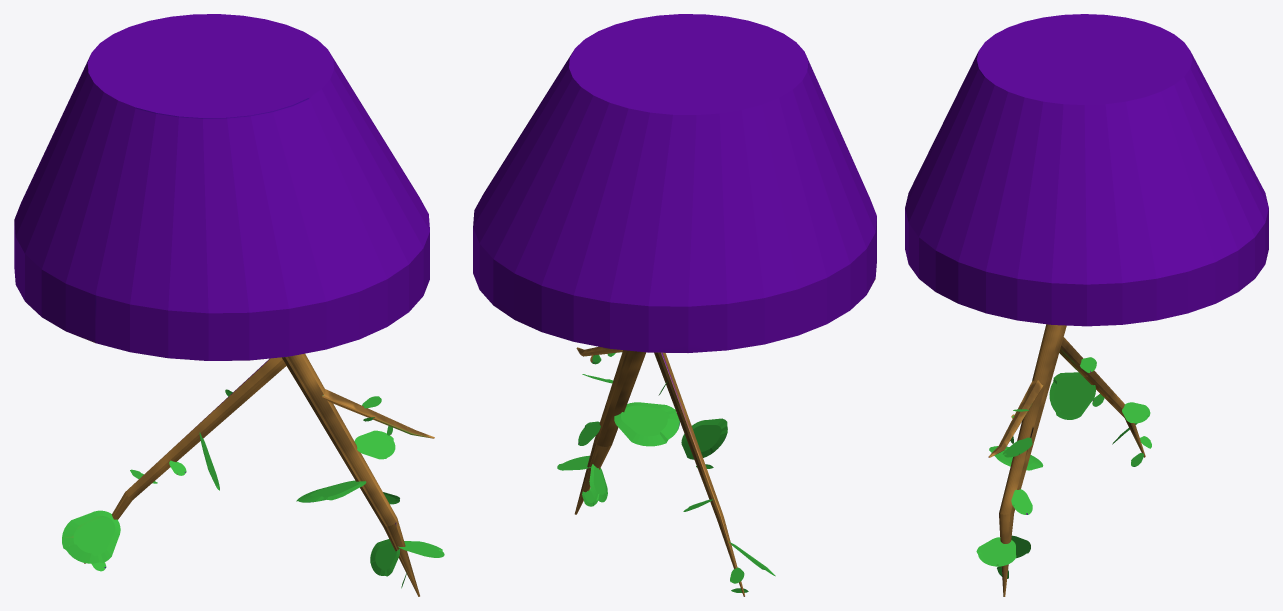
File: plant2.glb
3 renders of one model, left to right at view 1: azimuth 30°, elevation 25°; view 2: azimuth 150°, elevation 25°; view 3: azimuth 270°, elevation 25°, orthographic. The views are drawn at different scales.
Visible parts, largest first — view 1: tree; view 2: tree; view 3: tree.
Boxes of the visible parts, x1,y1,x2,y2 form: tree: (14,14,444,596); tree: (473,14,876,596); tree: (905,14,1268,596).
Size of the model in its own units: 2 by 2.84 by 2.
1 material, 1 textured.
